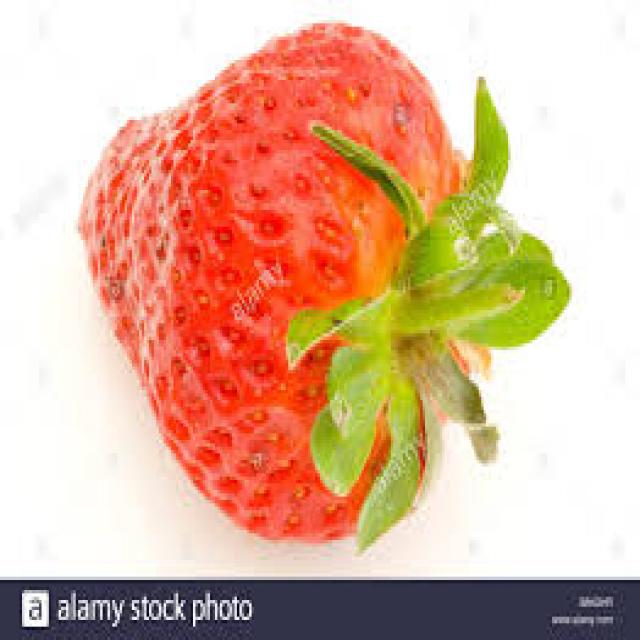organic waste: (71, 23, 569, 540)
